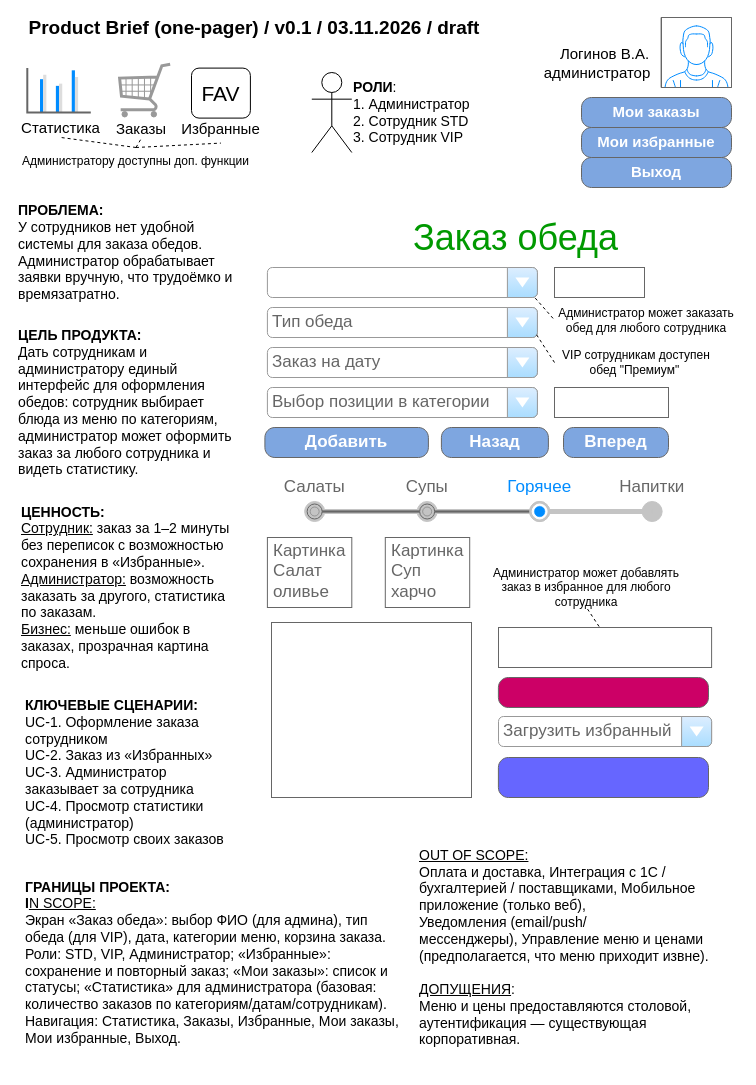
The diagram is 756 pixels wide and 1085 high, and some of its shapes have lost their labels. Each missing label, with the box of its shape:
STD / VIP: (554, 266, 644, 298)
В избранные: (497, 676, 708, 708)
Горячее: (554, 386, 668, 418)
Название заказа: (498, 626, 712, 668)
Оформить заказ: (497, 756, 708, 798)
ФИО сотрудника: (266, 266, 537, 298)
ФИО сотрудника ВАШ ЗАКАЗ Салат оливье Суп харчо: (270, 622, 472, 798)
